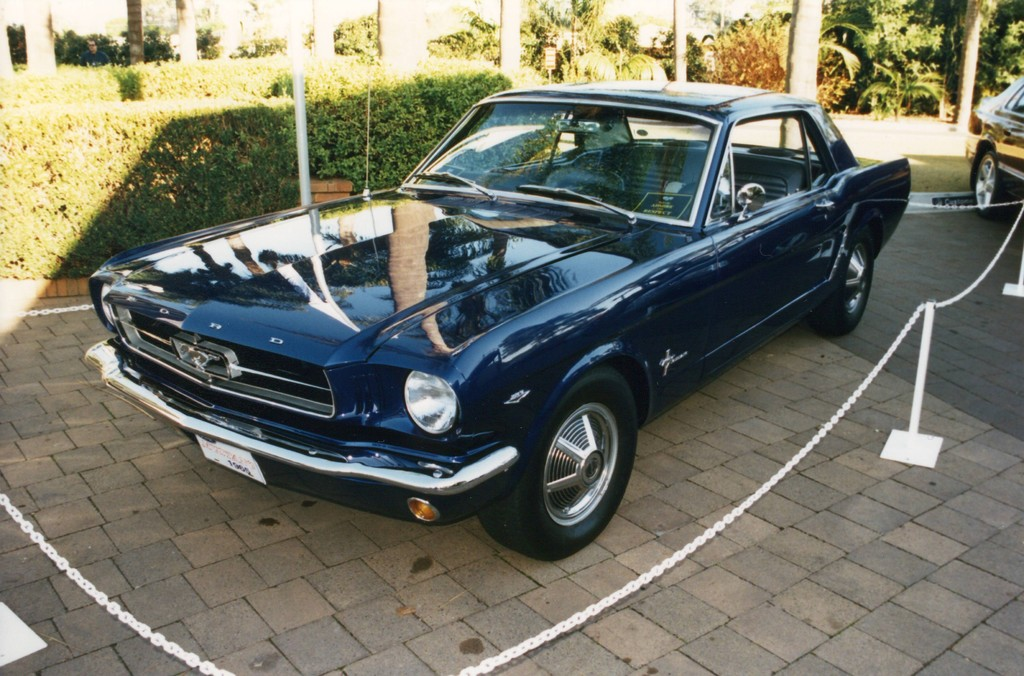Car: (82, 80, 912, 562), (968, 75, 1023, 215)
